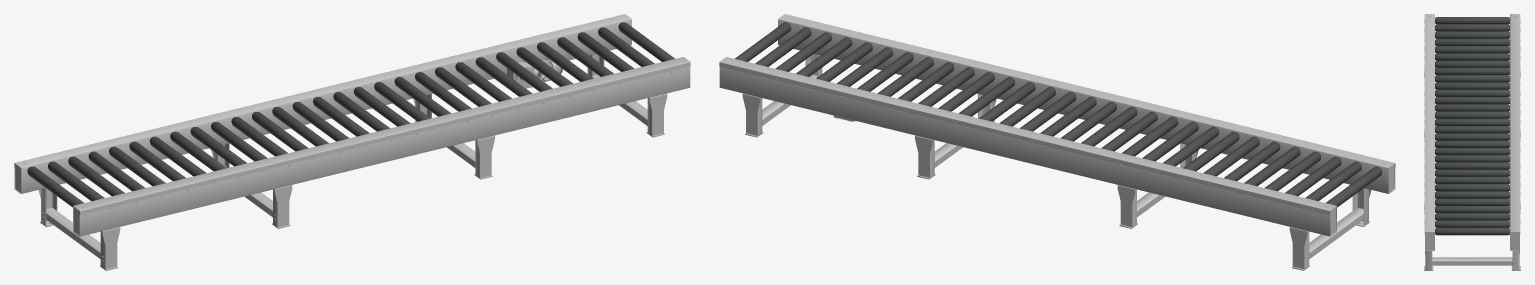
The model's file is RollerConveyor6M.FBX.
The picture shows the model from 3 angles, left to right: view 1: azimuth 30°, elevation 25°; view 2: azimuth 150°, elevation 25°; view 3: azimuth 270°, elevation 25°; orthographic projection. The views are drawn at different scales.
Visible parts, largest first — view 1: RollerConveyor6M, RollerConveyor_Bearing; view 2: RollerConveyor6M, RollerConveyor_Bearing; view 3: RollerConveyor_Bearing, RollerConveyor6M.
Part boxes in pixels (x1,y1,x2,y2): RollerConveyor6M: [14, 14, 690, 270]; RollerConveyor_Bearing: [27, 22, 674, 207]; RollerConveyor6M: [719, 14, 1395, 270]; RollerConveyor_Bearing: [735, 22, 1382, 207]; RollerConveyor_Bearing: [1435, 17, 1509, 235]; RollerConveyor6M: [1424, 14, 1520, 270].
Size of the model in its own units: 5.99 by 0.6235 by 1.12.
